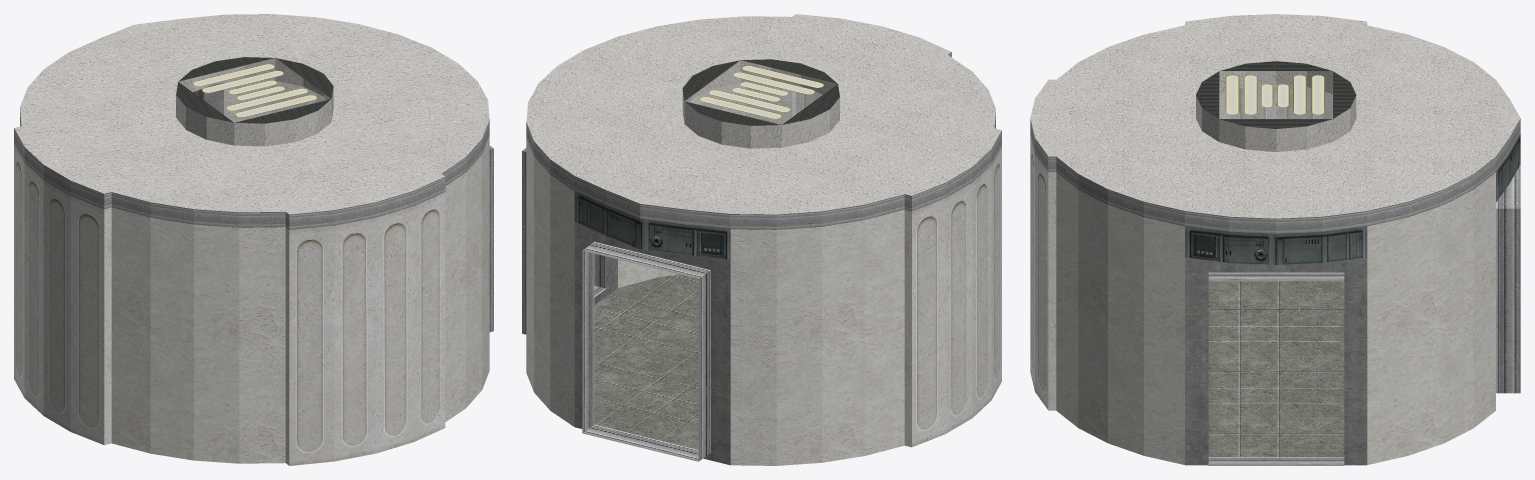
The model's file is ply_corl_house_m_s01_fp1_r2_office_mesh.fbx.
3 views of the same model, side by side, from view 1: azimuth 30°, elevation 25°; view 2: azimuth 150°, elevation 25°; view 3: azimuth 270°, elevation 25° (orthographic).
Visible parts, largest first — view 1: mesh_node; view 2: mesh_node; view 3: mesh_node.
Part boxes in pixels (box(x1,y1,x2,y2)): mesh_node: box(14, 14, 493, 465); mesh_node: box(522, 14, 1001, 465); mesh_node: box(1030, 14, 1520, 465).
Size of the model in its own units: 7.16 by 4.5 by 7.21.
